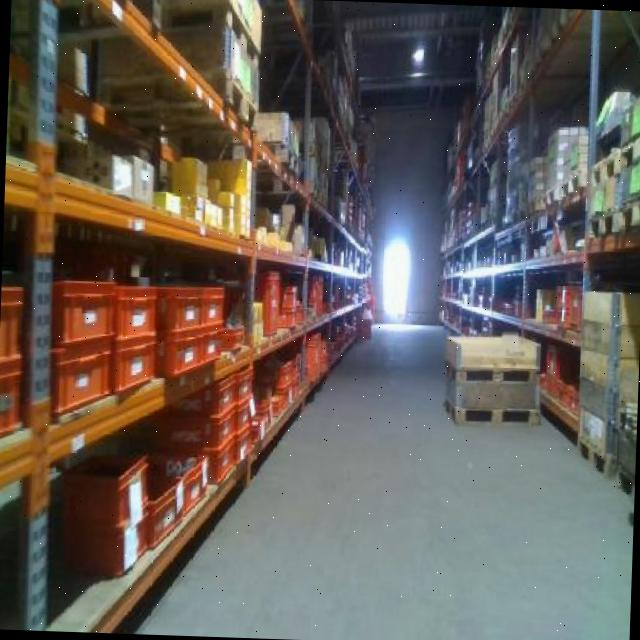pallet: (440, 393, 550, 432), (440, 352, 542, 392), (584, 128, 640, 189), (569, 423, 622, 479), (582, 202, 640, 238)
